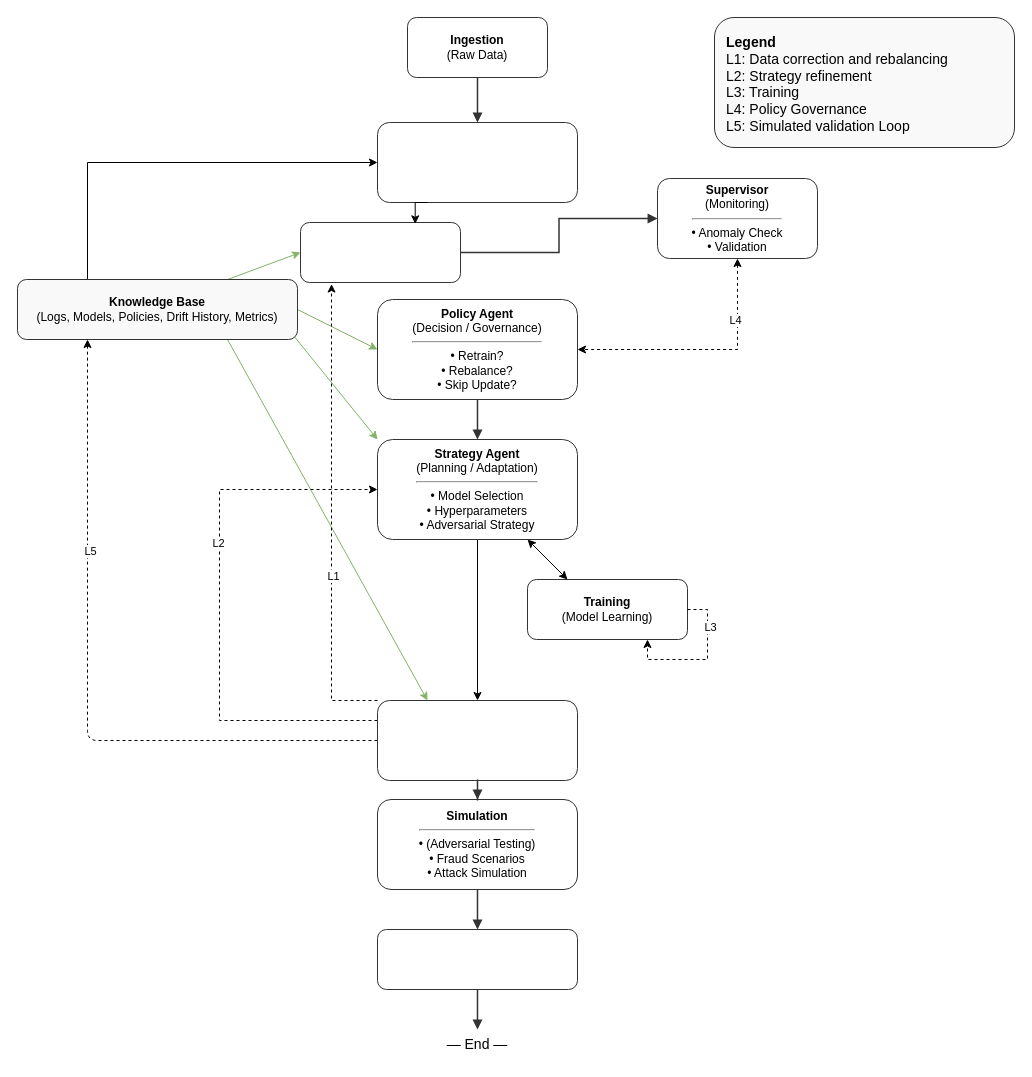
The diagram is 1032 pixels wide and 1077 high, and some of its shapes have lost their labels. Each missing label, with the centre of its shape:
"Balance Agent (CTGAN / SMOTE)" goes at (x=380, y=252).
"Deployment (If Policy Allows)" goes at (x=477, y=959).
"Drift Detection (Drift Agent) • PSI / KL / KS • Concept Drift" goes at (x=477, y=162).
"Evaluation • Accuracy / F1 / AUC • Robustness Metrics" goes at (x=477, y=740).
